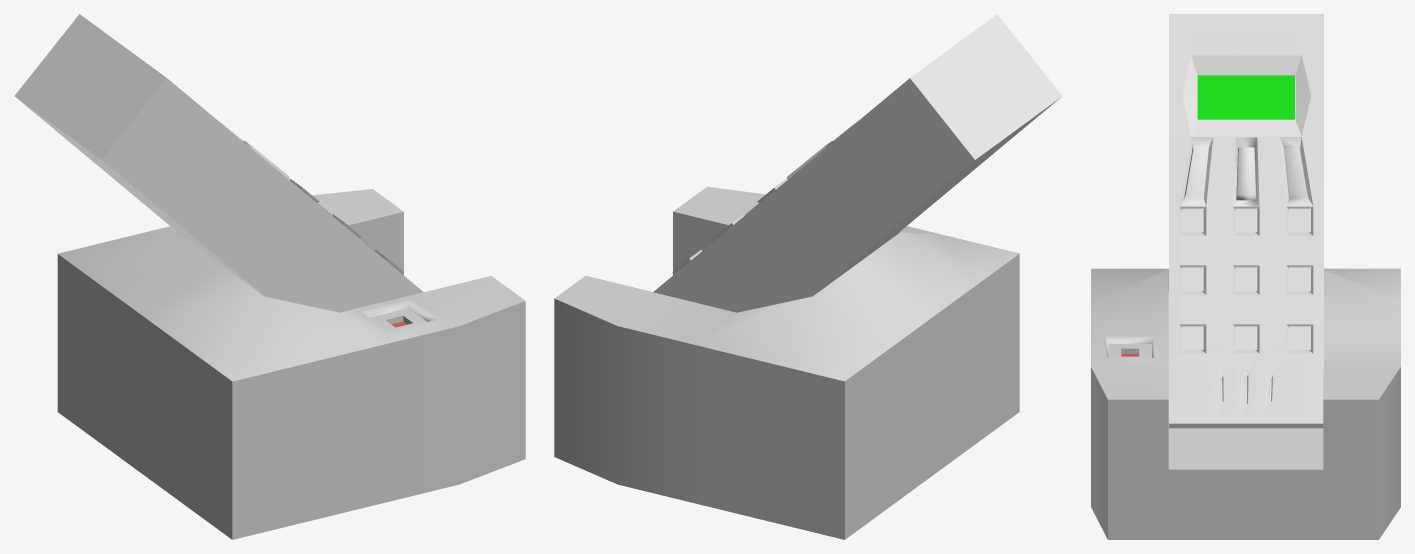
File: phone.fbx
The picture shows the model from 3 angles, left to right: view 1: azimuth 30°, elevation 25°; view 2: azimuth 150°, elevation 25°; view 3: azimuth 270°, elevation 25°; orthographic projection. The views are drawn at different scales.
Visible parts, largest first — view 1: pCube4; view 2: pCube4; view 3: pCube4.
Boxes of the visible parts, left/top/right/bottom form: pCube4: left=14, top=14, right=525, bottom=539; pCube4: left=554, top=14, right=1062, bottom=539; pCube4: left=1091, top=14, right=1400, bottom=539.
Size of the model in its own units: 12.87 by 13.74 by 10.
